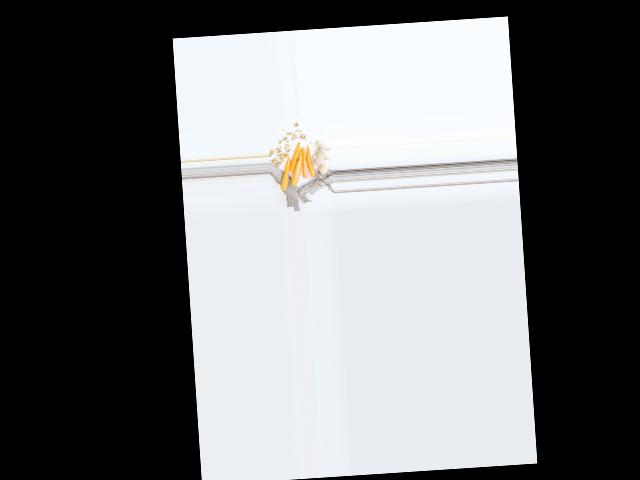carrot: (304, 145, 320, 179)
